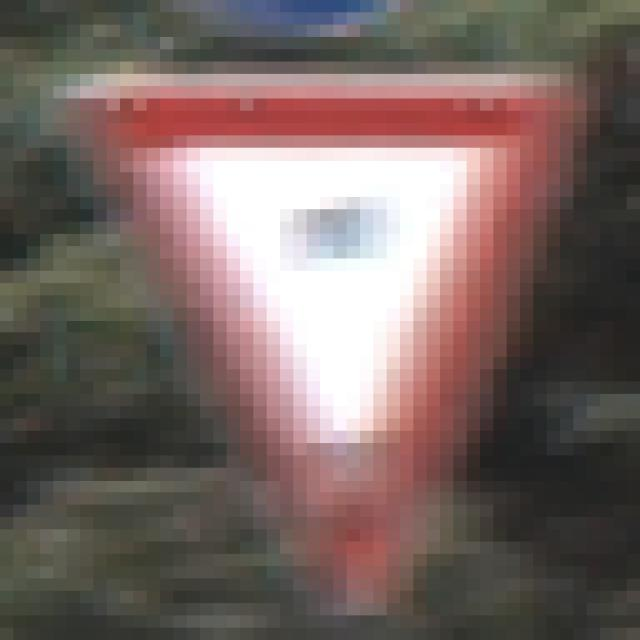Give Way: (68, 63, 574, 580)
